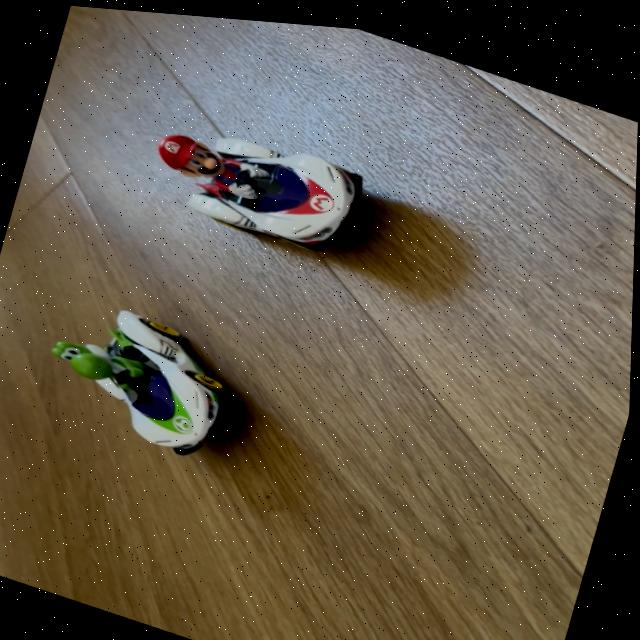mario: (127, 94, 389, 265)
yoshi: (16, 273, 264, 476)
